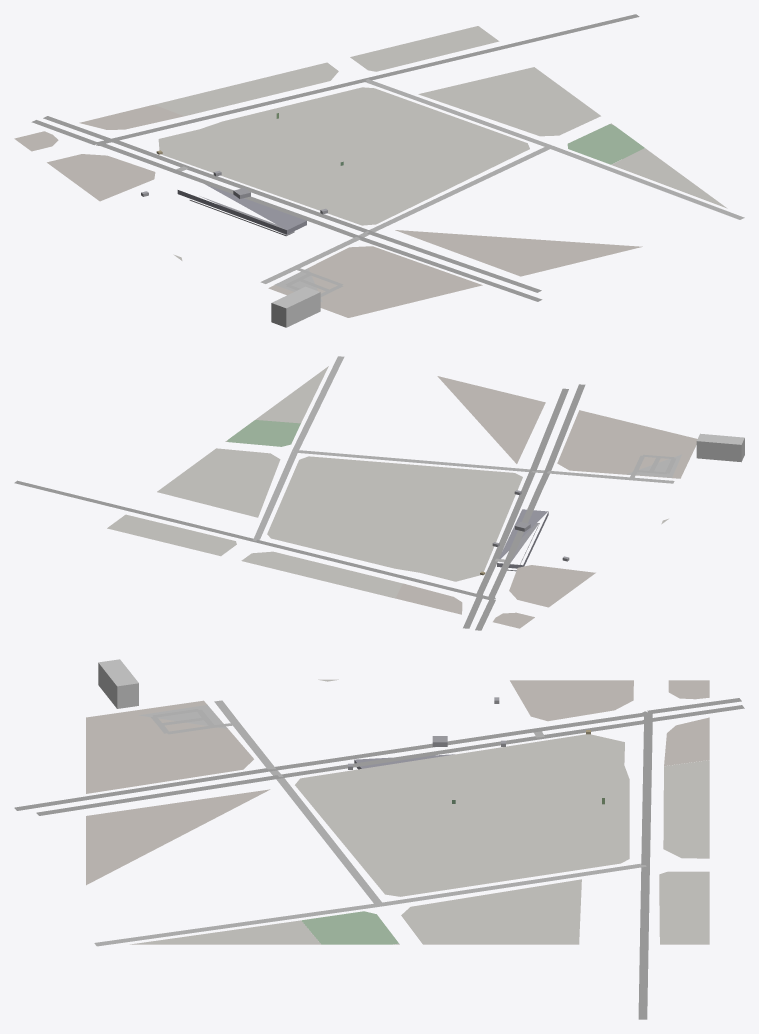
3 views of the same model, one above another, from view 1: azimuth 30°, elevation 25°; view 2: azimuth 150°, elevation 25°; view 3: azimuth 270°, elevation 25° (orthographic). The views are drawn at different scales.
Size of the model in its own units: 641 by 41.83 by 586.
